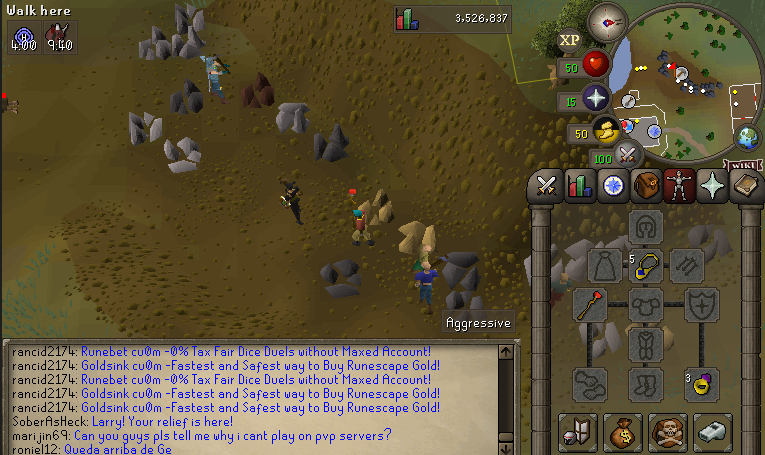depleted: (312, 251, 369, 303), (442, 291, 497, 336), (440, 244, 487, 293), (308, 116, 353, 167), (164, 78, 212, 118)
iron: (240, 68, 278, 114)
